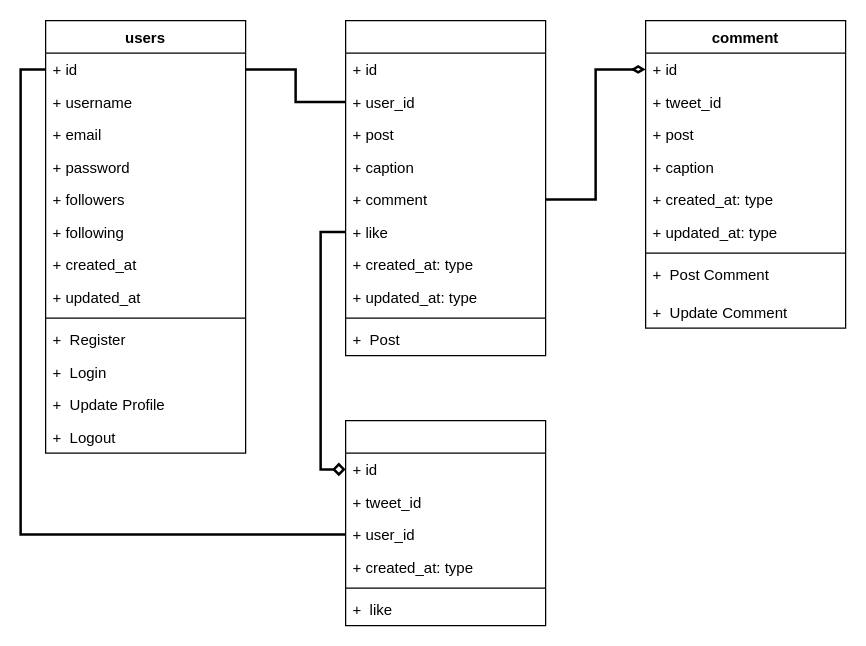
Some shapes in this 866 by 646 pixel diagram are drawn without their labels. Here are the shapes that lost their labels. From the top down, the box of each, then its label:
(344, 19, 546, 356): tweets
(344, 419, 546, 626): likes
